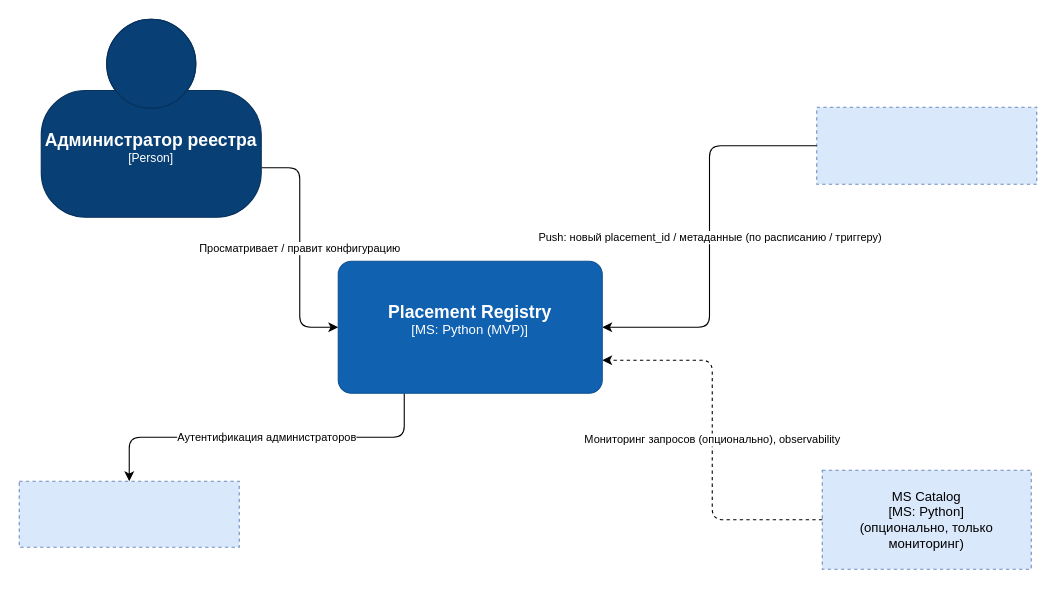
The diagram is 1056 pixels wide and 589 high, and some of its shapes have lost their labels. The shapes that lost their labels are listed below. From the top down, each one's centre as x and y in pixels, then its label:
the point at 926,145: RecSys (PA Api) [MS: Go]
the point at 128,513: X5ID [Auth]
